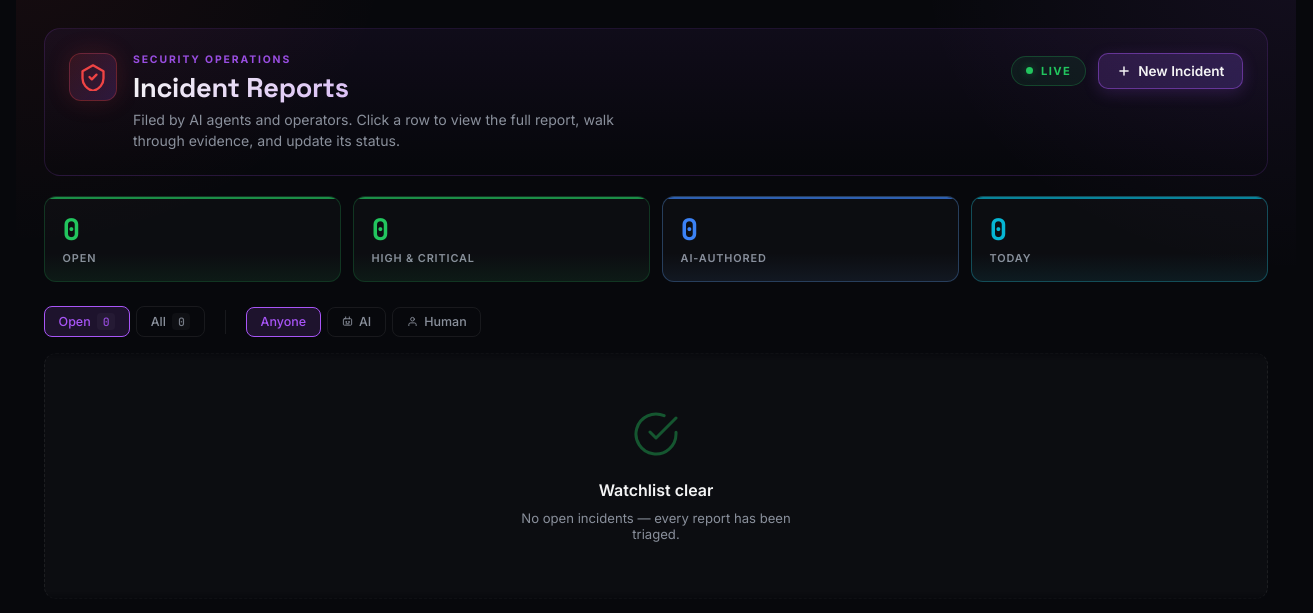
Test: IncidentsPage › empty state shows different copy for "Open" vs "AI" vs "Human" filters
expect the heading "Watchlist clear" is shown: met, box [599,480,713,500]
Click the button "All 0" at (171, 322), box [136,306,205,338]
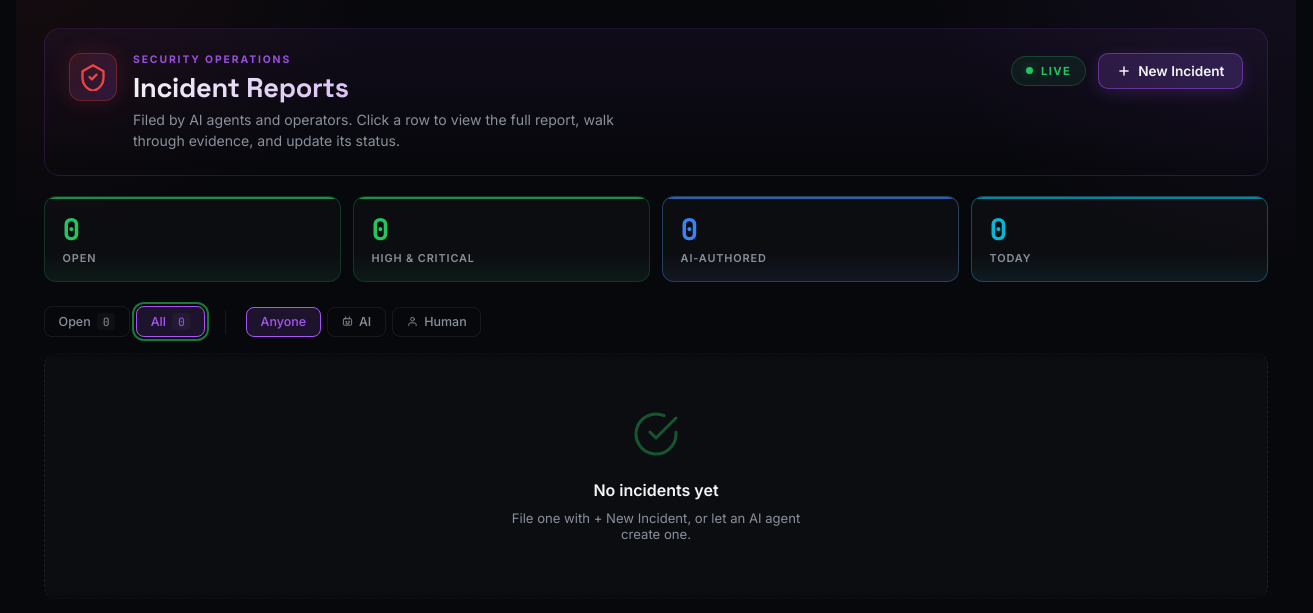
expect the heading "No incidents yet" is shown: met, box [593,480,719,500]
// Switch to AI source filter
Click the button "AI" at (356, 322), box [327,307,386,337]
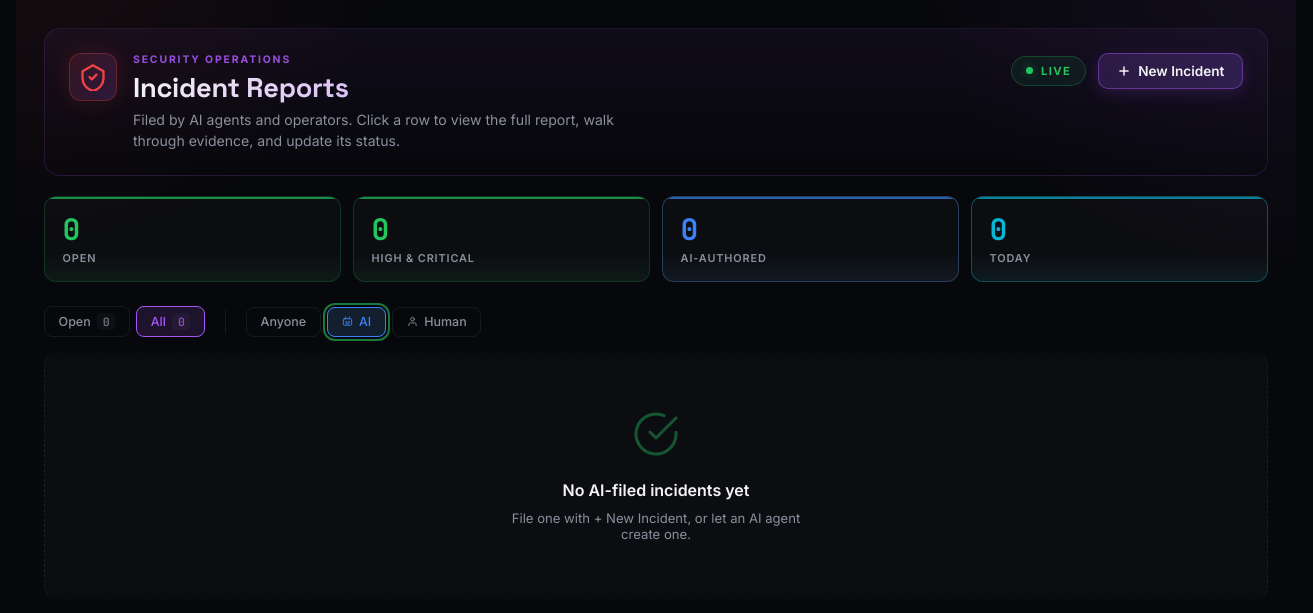
expect the heading "No AI-filed incidents yet" is shown: met, box [562,480,749,500]
// Switch to Human source filter
Click the button "Human" at (437, 322), box [392,307,481,337]
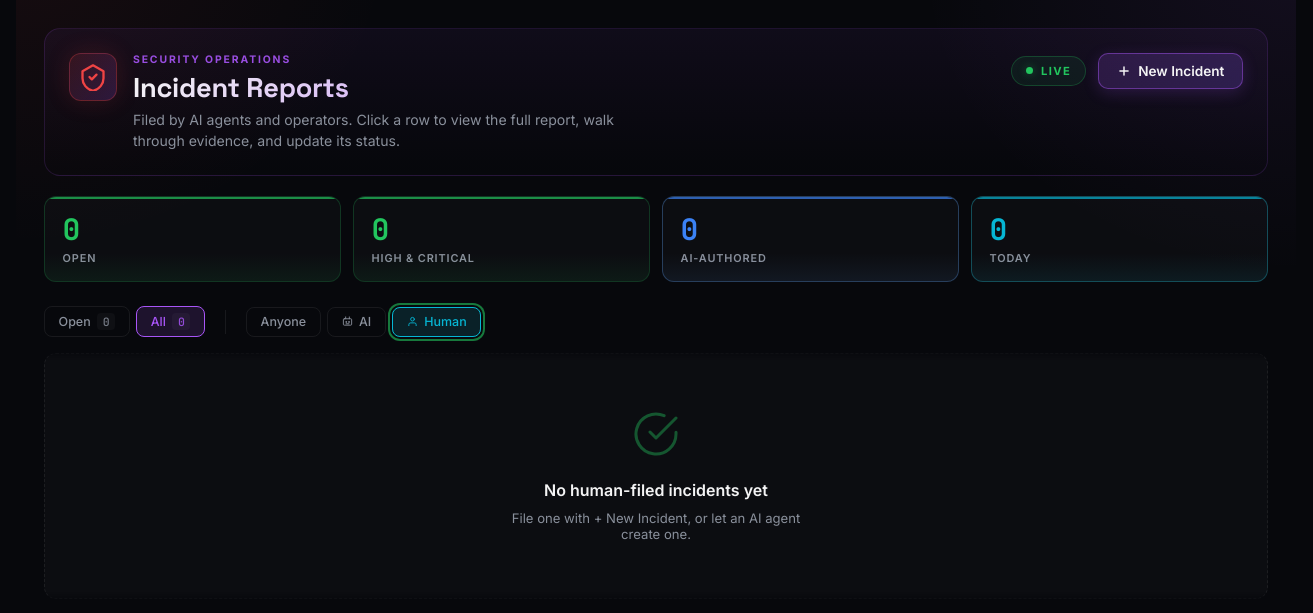
expect the heading "No human-filed incidents yet" is shown: met, box [544,480,768,500]
